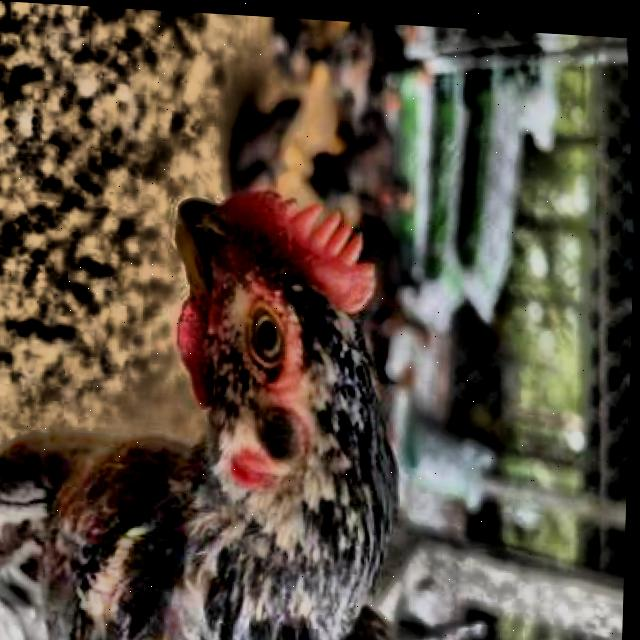Healthy: (230, 283, 307, 399)
